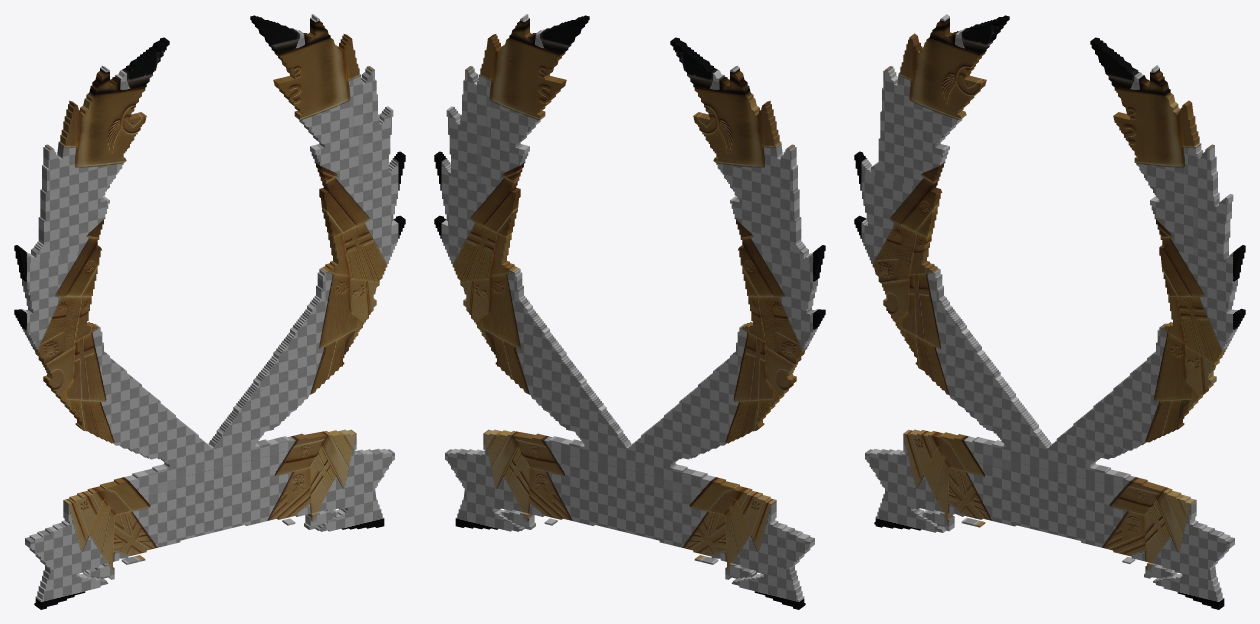
File: trophy.glb
3 views of the same model, side by side, from view 1: azimuth 30°, elevation 25°; view 2: azimuth 150°, elevation 25°; view 3: azimuth 330°, elevation 25° (orthographic).
Visible parts, largest first — view 1: world; view 2: world; view 3: world.
Boxes of the visible parts, x1=… form: world: x1=14, y1=14, x2=405, y2=609; world: x1=434, y1=14, x2=825, y2=609; world: x1=854, y1=14, x2=1245, y2=609.
Bounding box in the file's own units: 1.5 × 2 × 0.0358.
1 material, 1 textured.
